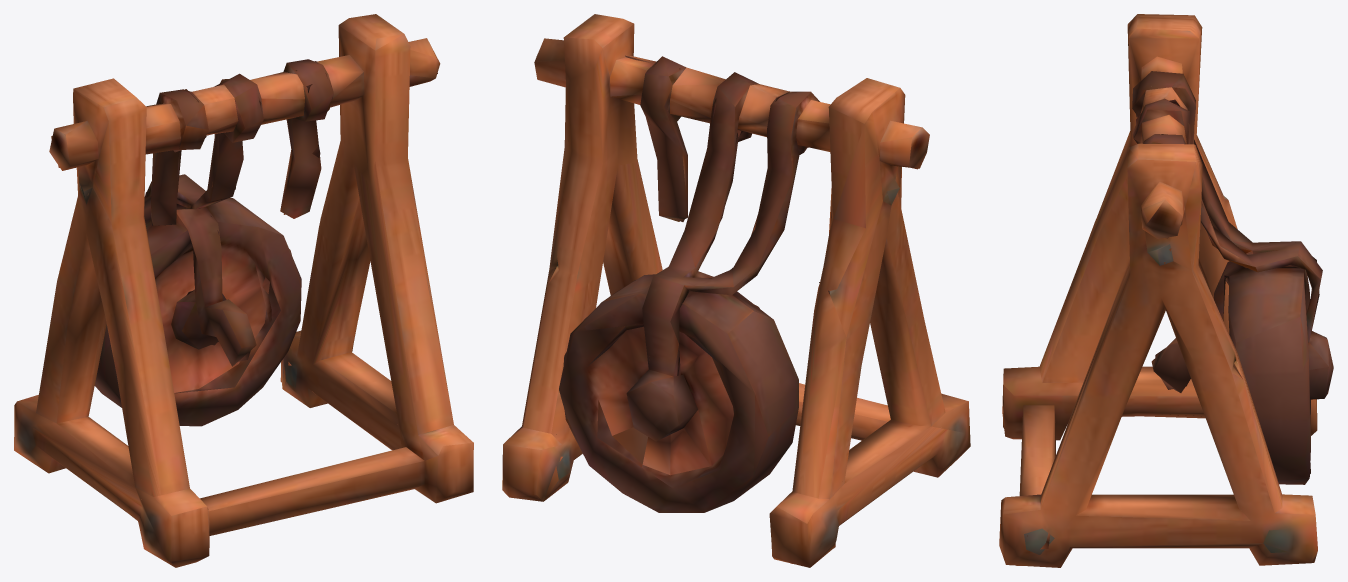
The model's file is lg-torture-rack.glb.
The picture shows the model from 3 angles, left to right: view 1: azimuth 30°, elevation 25°; view 2: azimuth 150°, elevation 25°; view 3: azimuth 270°, elevation 25°; orthographic projection. The views are drawn at different scales.
Visible parts, largest first — view 1: geometry_0; view 2: geometry_0; view 3: geometry_0.
Boxes of the visible parts, bbox=[...] form: geometry_0: bbox=[14, 14, 473, 567]; geometry_0: bbox=[502, 14, 970, 567]; geometry_0: bbox=[999, 14, 1333, 567].
Size of the model in its own units: 0.939 by 1 by 0.7353.
Materials: 1 (1 with a texture image).
